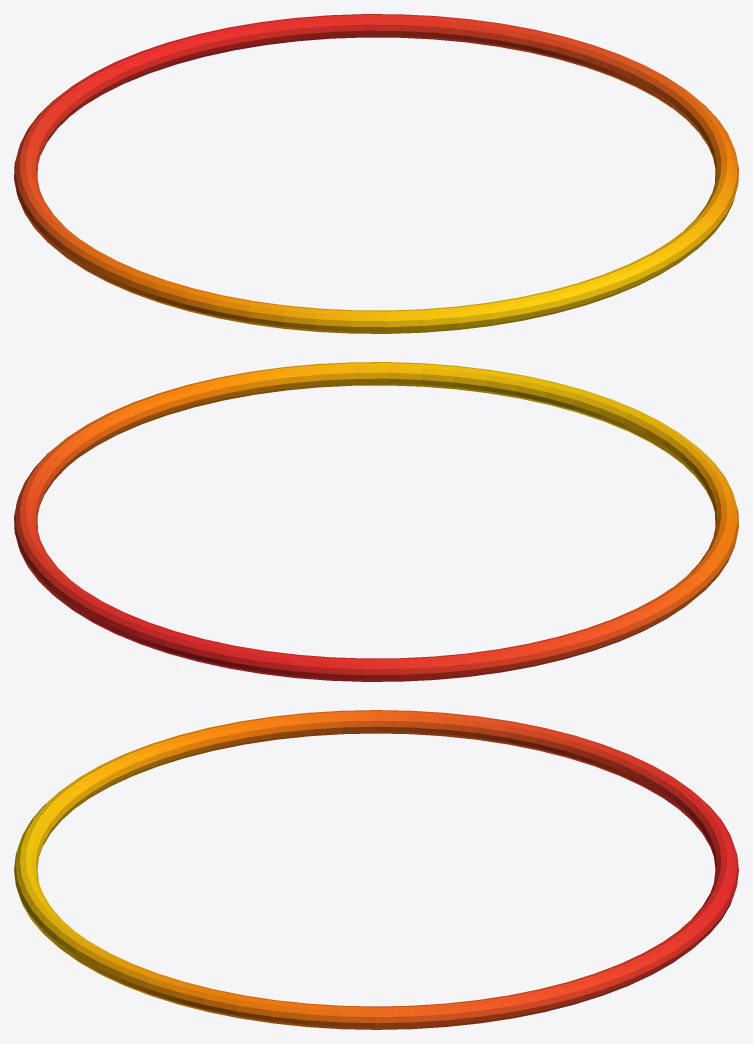
The model's file is Neon_Ring.fbx.
3 renders of one model, top to bottom at view 1: azimuth 30°, elevation 25°; view 2: azimuth 150°, elevation 25°; view 3: azimuth 270°, elevation 25°, orthographic.
Visible parts, largest first — view 1: Torus; view 2: Torus; view 3: Torus.
Part boxes in pixels (x1,y1,x2,y2): Torus: (14,14,738,333); Torus: (14,362,738,681); Torus: (14,710,738,1029).
Size of the model in its own units: 308 by 10 by 308.
1 material, 1 textured.
